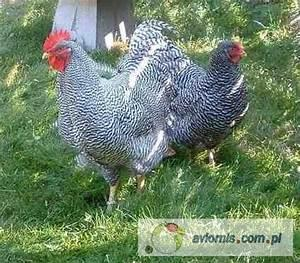hen: (41, 18, 186, 214), (166, 36, 263, 174)
